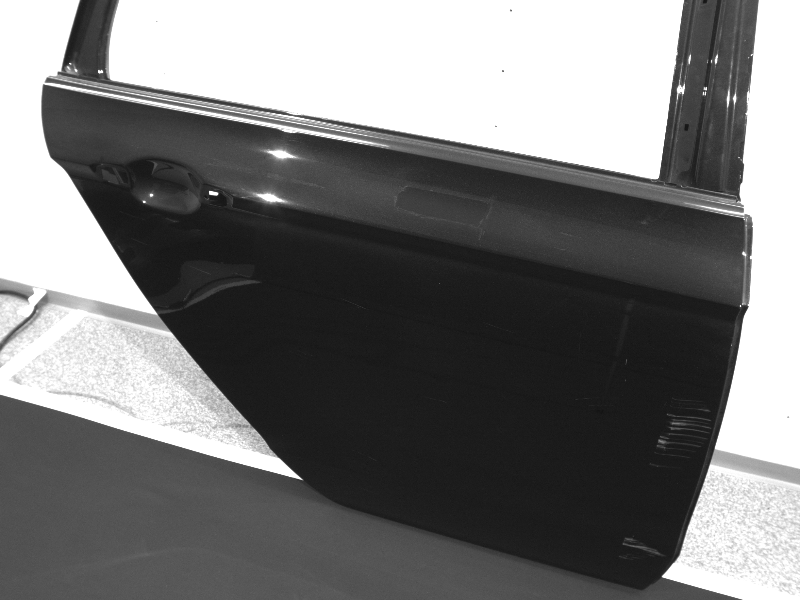scratch: (649, 397, 713, 469), (619, 537, 666, 561), (574, 395, 612, 407), (482, 320, 512, 333), (339, 298, 366, 310), (186, 265, 212, 276), (119, 211, 145, 221), (423, 396, 447, 404), (357, 454, 378, 463), (623, 358, 629, 382), (130, 238, 150, 245), (165, 217, 178, 223)
